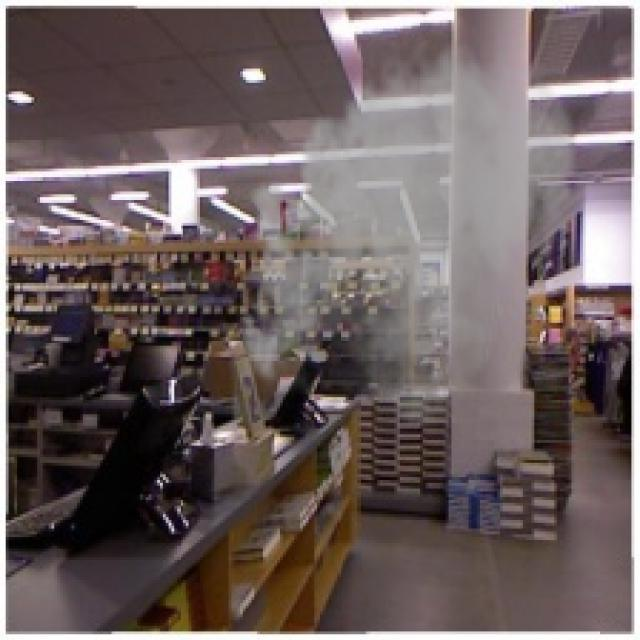Smoke: (228, 29, 586, 428)
